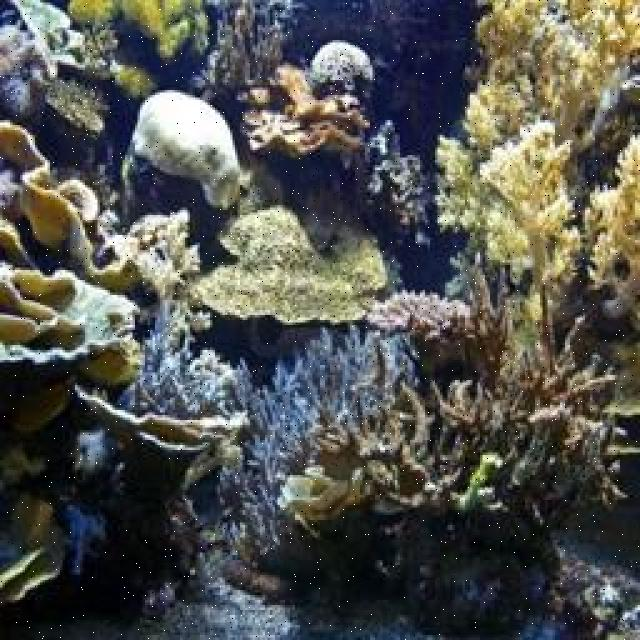reefs: (101, 207, 426, 552), (313, 251, 627, 532), (436, 0, 638, 369), (0, 120, 143, 490), (174, 184, 387, 323), (77, 384, 251, 490), (131, 92, 240, 208), (244, 64, 374, 161), (365, 290, 472, 340), (307, 42, 376, 98)
